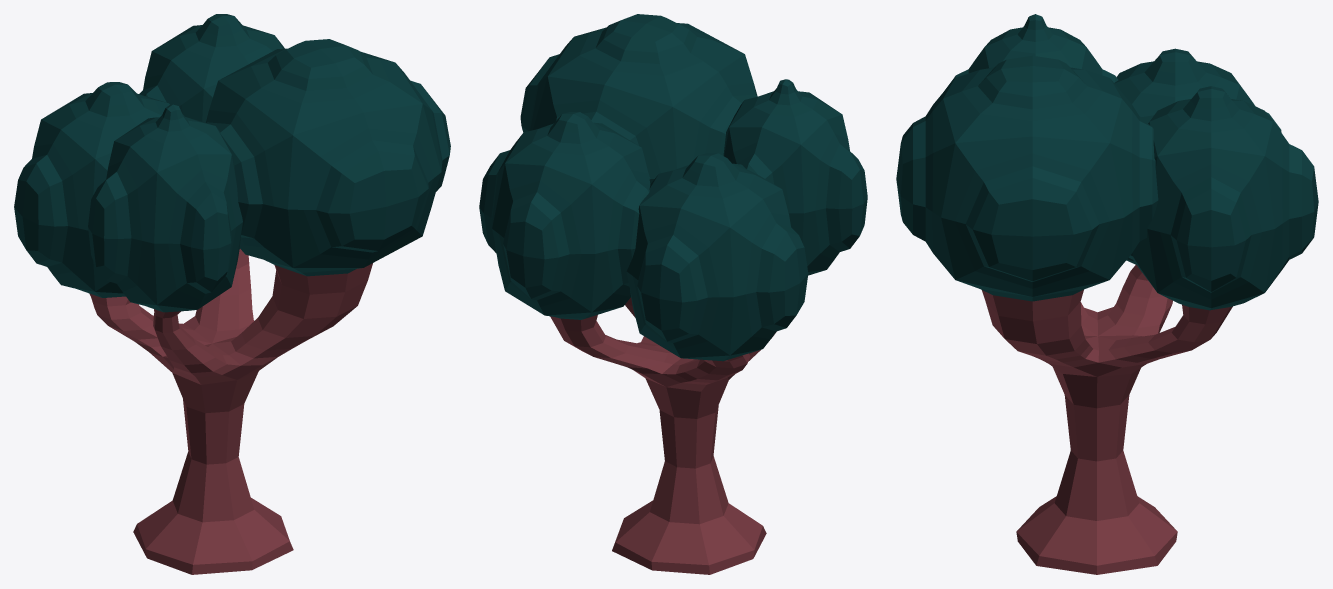
File: tree.fbx
The picture shows the model from 3 angles, left to right: view 1: azimuth 30°, elevation 25°; view 2: azimuth 150°, elevation 25°; view 3: azimuth 270°, elevation 25°; orthographic projection. The views are drawn at different scales.
Visible parts, largest first — view 1: Cube; view 2: Cube; view 3: Cube.
Part boxes in pixels (x1=…): Cube: x1=14, y1=14, x2=450, y2=574; Cube: x1=479, y1=14, x2=867, y2=574; Cube: x1=896, y1=14, x2=1318, y2=574.
Size of the model in its own units: 620 by 864 by 641.
